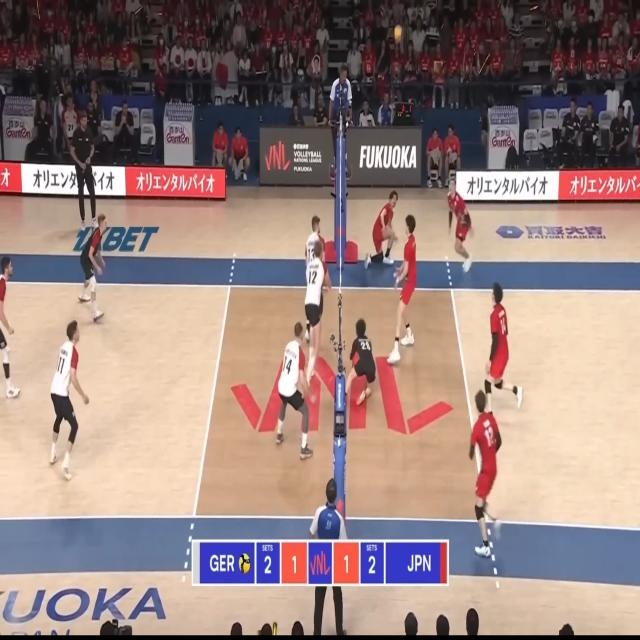ball: (394, 24, 402, 43)
